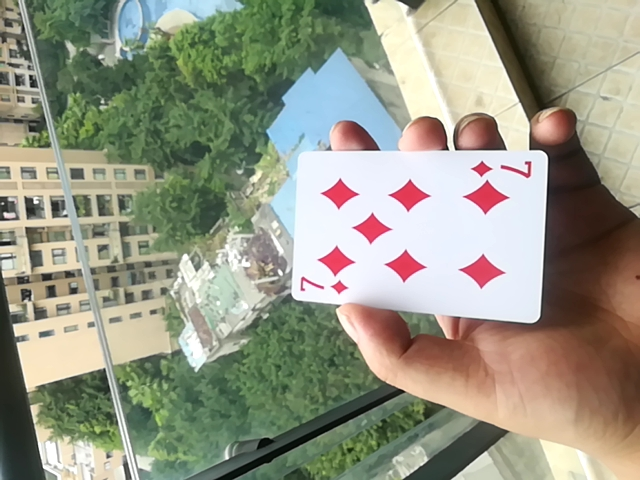fk 7: (281, 148, 550, 320)
